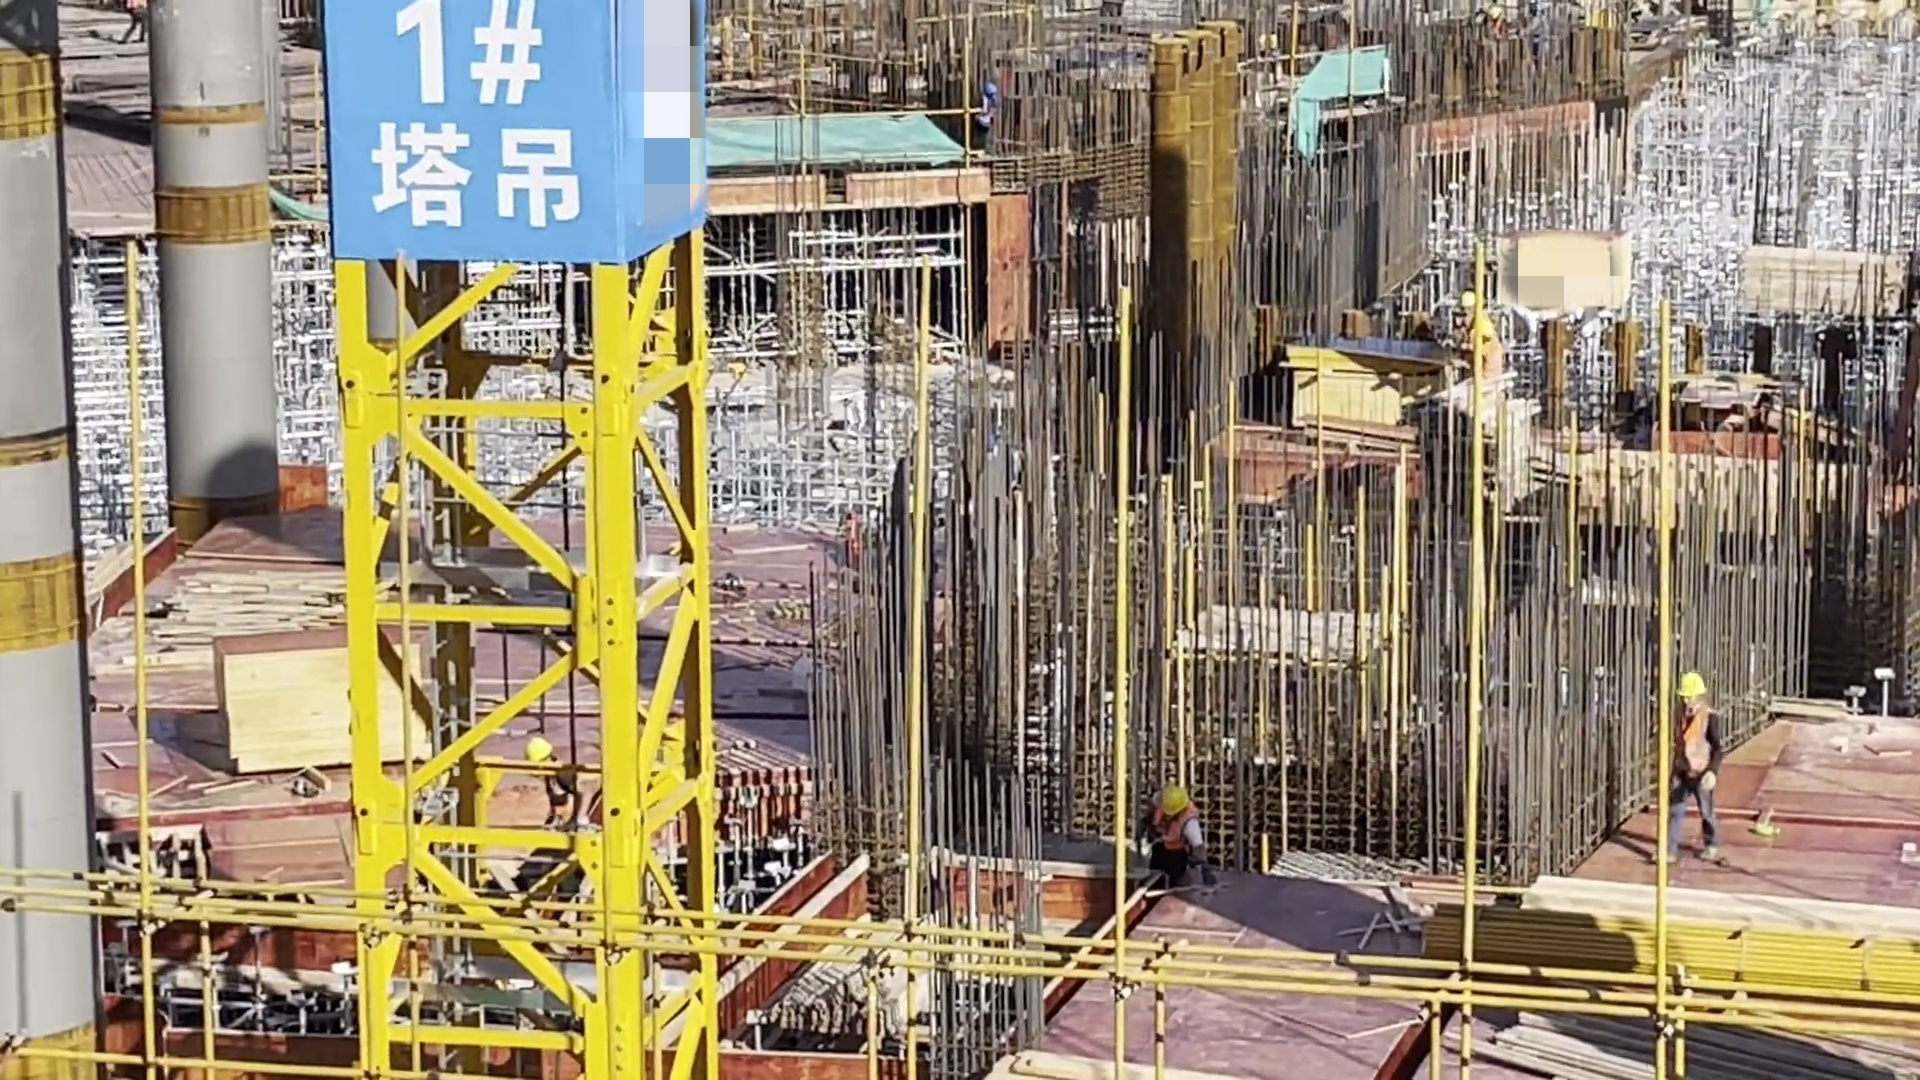helmet: (1674, 670, 1707, 710), (1158, 782, 1188, 819), (524, 735, 553, 767), (1459, 287, 1484, 315), (983, 81, 998, 100)
person: (1669, 669, 1729, 868), (1145, 776, 1213, 884), (520, 737, 594, 833), (1462, 276, 1497, 354), (972, 70, 1006, 143), (118, 1, 170, 45), (1477, 6, 1518, 48)
vest: (1675, 705, 1716, 790), (1152, 805, 1203, 865)
